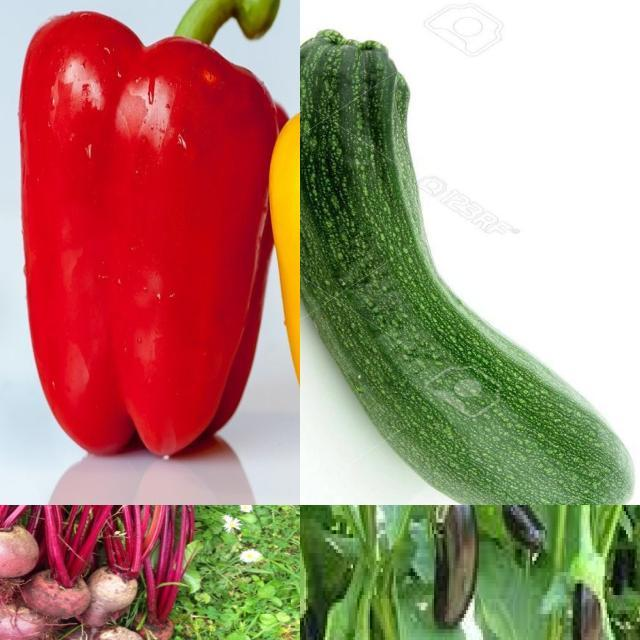beet: (1, 521, 154, 640)
bell_pepper: (11, 1, 277, 469)
eggplant: (431, 506, 480, 622), (571, 523, 603, 640), (495, 506, 546, 542)
zucchini: (301, 36, 640, 506)
